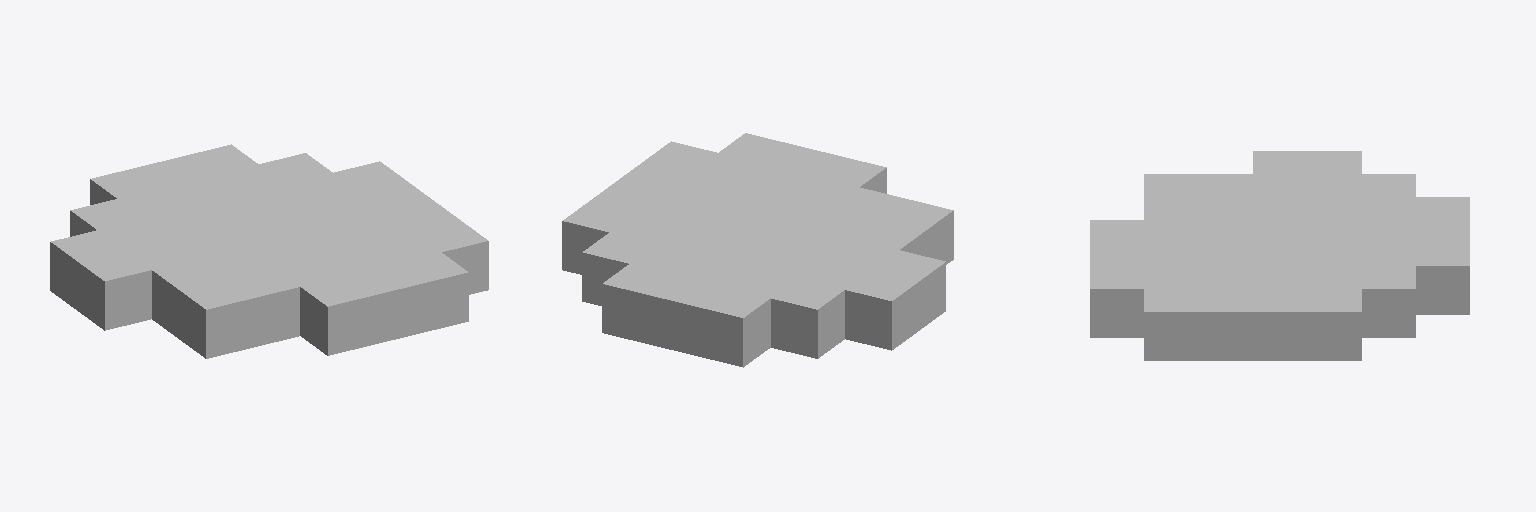
File: cloud1.obj
3 renders of one model, left to right at view 1: azimuth 30°, elevation 25°; view 2: azimuth 150°, elevation 25°; view 3: azimuth 270°, elevation 25°, orthographic.
Parts seen in each view (by area): view 1: Cube.012_Cube.116; view 2: Cube.012_Cube.116; view 3: Cube.012_Cube.116.
Boxes of the visible parts, box(x1,y1,x2,y2) form: Cube.012_Cube.116: box(50, 144, 488, 358); Cube.012_Cube.116: box(562, 133, 953, 367); Cube.012_Cube.116: box(1090, 151, 1469, 360).
Bounding box in the file's own units: 14 × 2 × 14.